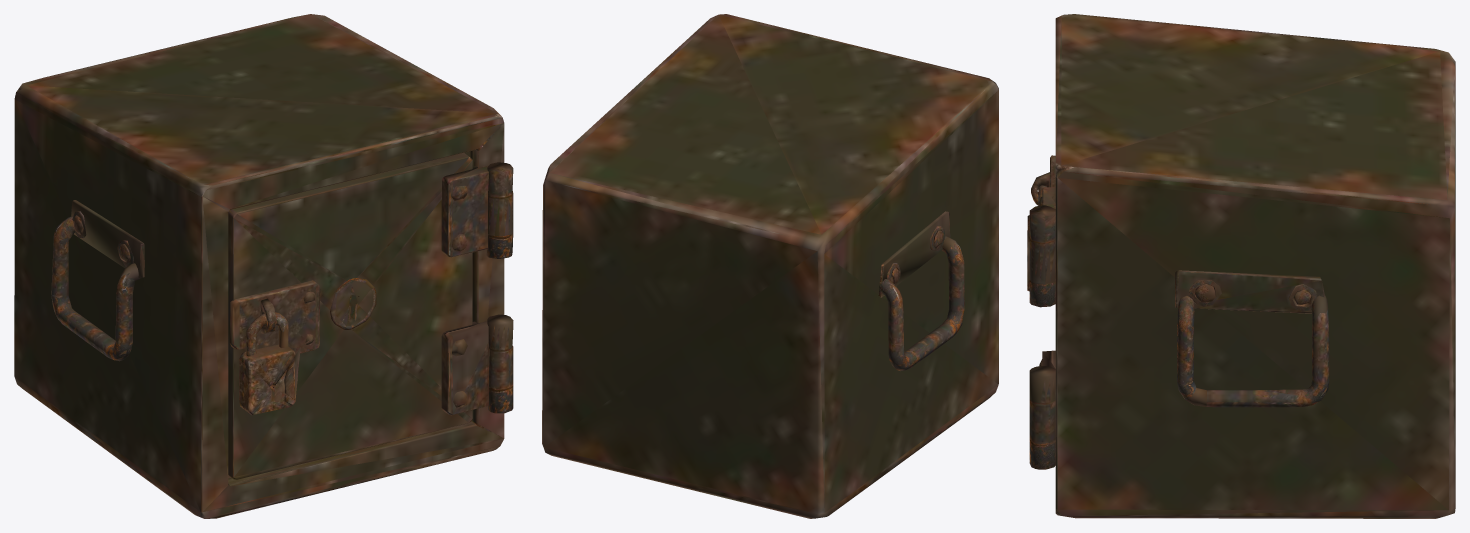
File: safe_tier_1_rusty_box.glb
3 views of the same model, side by side, from view 1: azimuth 30°, elevation 25°; view 2: azimuth 150°, elevation 25°; view 3: azimuth 270°, elevation 25° (orthographic). The views are drawn at different scales.
Parts seen in each view (by area): view 1: Meshy_AI_safe_tier_1_rusty_box_3d_20261027_texture; view 2: Meshy_AI_safe_tier_1_rusty_box_3d_20261027_texture; view 3: Meshy_AI_safe_tier_1_rusty_box_3d_20261027_texture.
Boxes of the visible parts, <box> form: Meshy_AI_safe_tier_1_rusty_box_3d_20261027_texture: <box>14,14,513,518</box>; Meshy_AI_safe_tier_1_rusty_box_3d_20261027_texture: <box>542,14,998,518</box>; Meshy_AI_safe_tier_1_rusty_box_3d_20261027_texture: <box>1027,14,1455,518</box>.
Bounding box in the file's own units: 0.9934 × 0.9055 × 1.
Materials: 1 (1 with a texture image).
